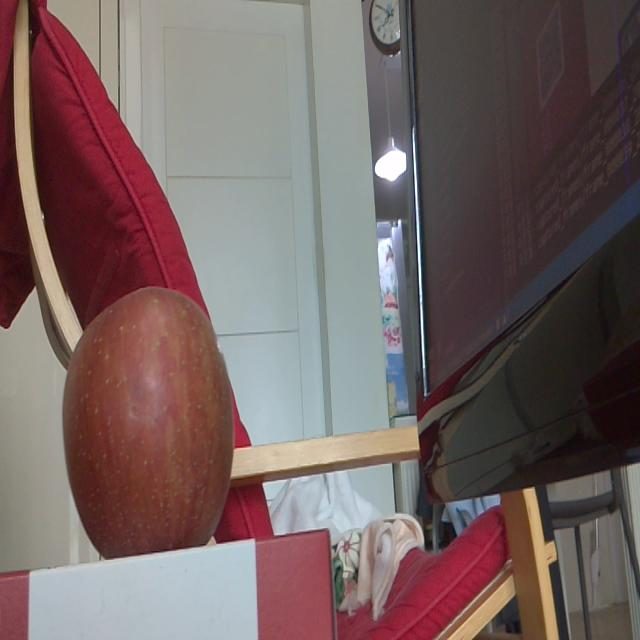apple: (59, 283, 237, 554)
